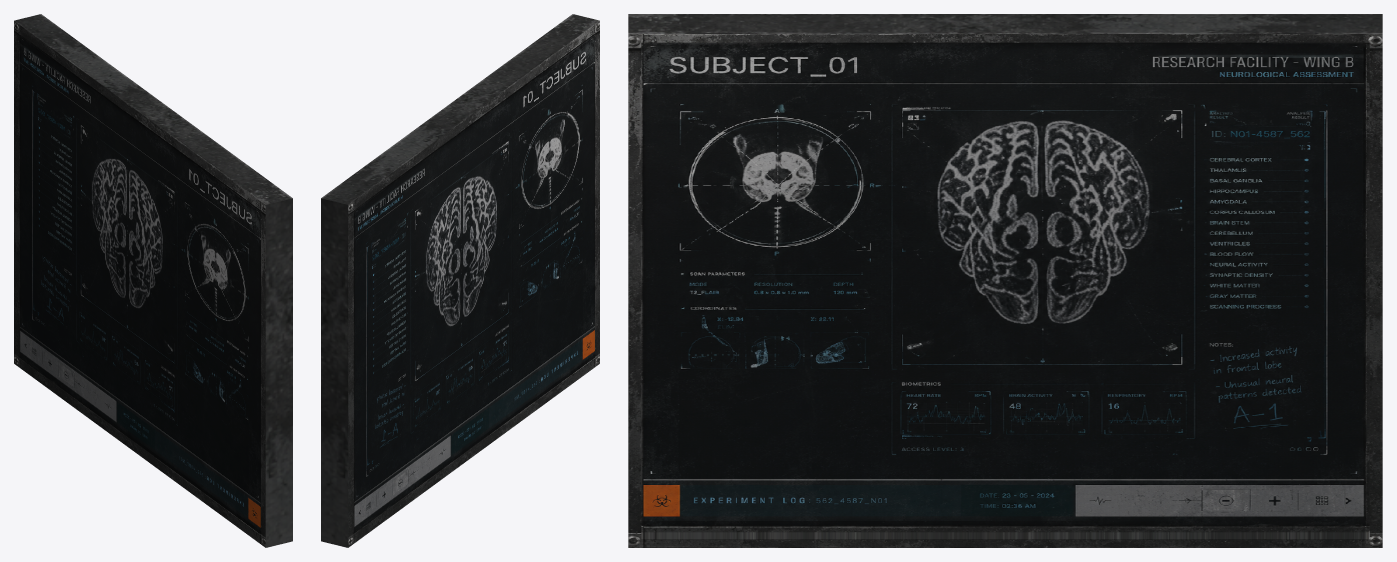
File: QuadroDec.fbx
The picture shows the model from 3 angles, left to right: view 1: azimuth 30°, elevation 25°; view 2: azimuth 150°, elevation 25°; view 3: azimuth 270°, elevation 25°; orthographic projection. The views are drawn at different scales.
Parts seen in each view (by area): view 1: Cube; view 2: Cube; view 3: Cube.
Part boxes in pixels (x1,y1,x2,y2): Cube: (14, 14, 292, 547); Cube: (321, 14, 599, 547); Cube: (628, 14, 1382, 547).
Size of the model in its own units: 207 by 2496 by 3320.
